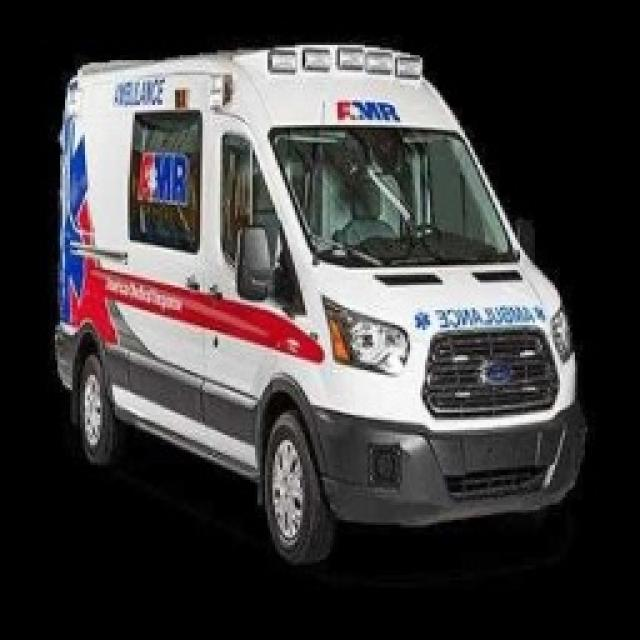emergency-vehicle: (58, 35, 582, 581)
